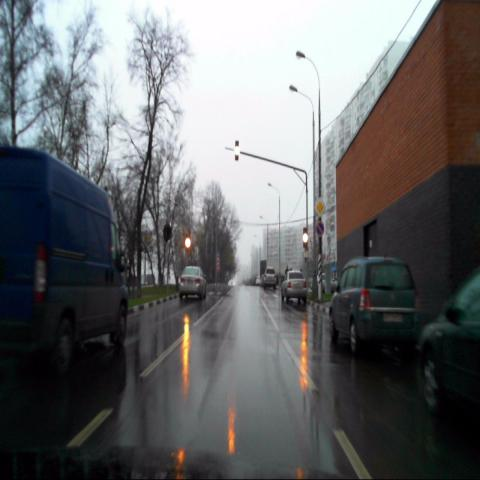2_1: (314, 197, 326, 217)
3_28: (315, 220, 324, 237)
